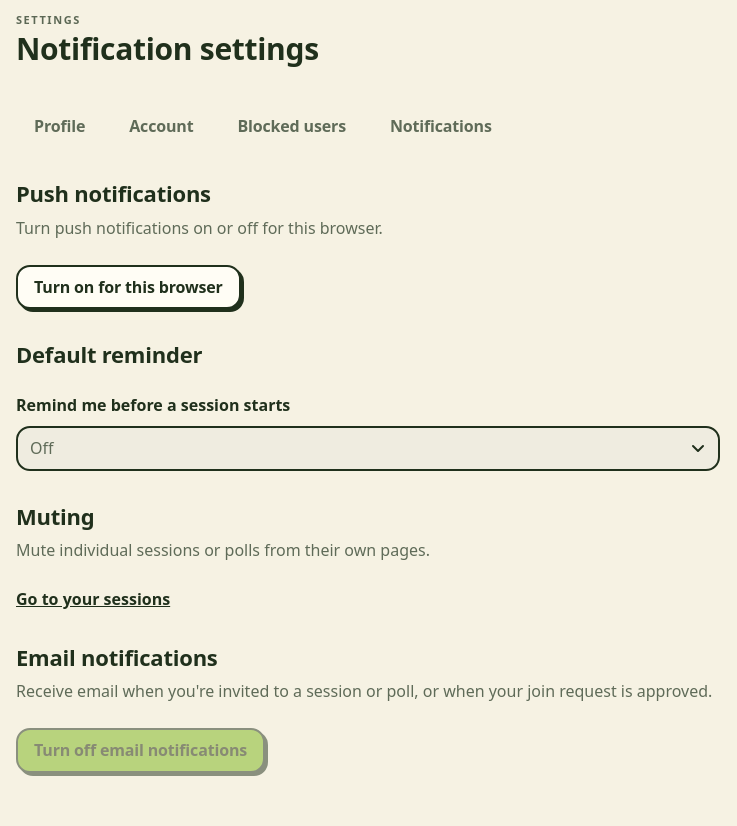
NotificationSettingsPage — the three ruling-3 controls › changing the account default reminder to Off PUTs the wire value Off and confirms it saved_D082
Step 1. Select "Off" in the dropdown labelled "Remind me before a session starts" → {"x": 368, "y": 448}, box [16, 426, 720, 470]
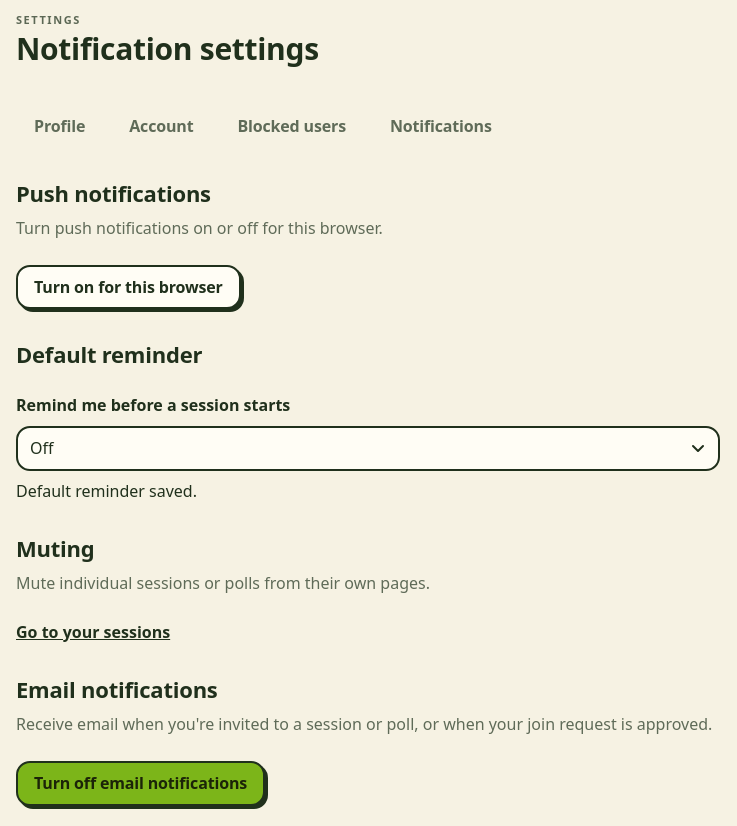
Check: the text "Default reminder saved." is shown, box [16, 480, 197, 502]
